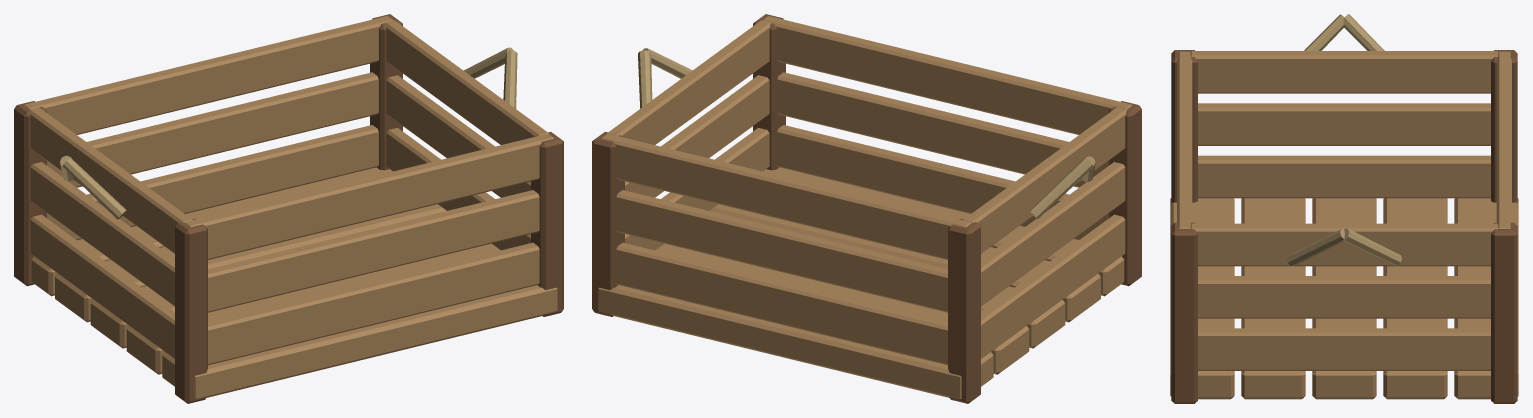
The picture shows the model from 3 angles, left to right: view 1: azimuth 30°, elevation 25°; view 2: azimuth 150°, elevation 25°; view 3: azimuth 270°, elevation 25°; orthographic projection.
Visible parts, largest first — view 1: GF-025 Ventilated harvest carrying crate batched; view 2: GF-025 Ventilated harvest carrying crate batched; view 3: GF-025 Ventilated harvest carrying crate batched.
Boxes of the visible parts, x1=… form: GF-025 Ventilated harvest carrying crate batched: x1=14, y1=14, x2=563, y2=403; GF-025 Ventilated harvest carrying crate batched: x1=592, y1=14, x2=1141, y2=403; GF-025 Ventilated harvest carrying crate batched: x1=1170, y1=14, x2=1518, y2=403.
Size of the model in its own units: 1.18 by 0.4773 by 0.785.
